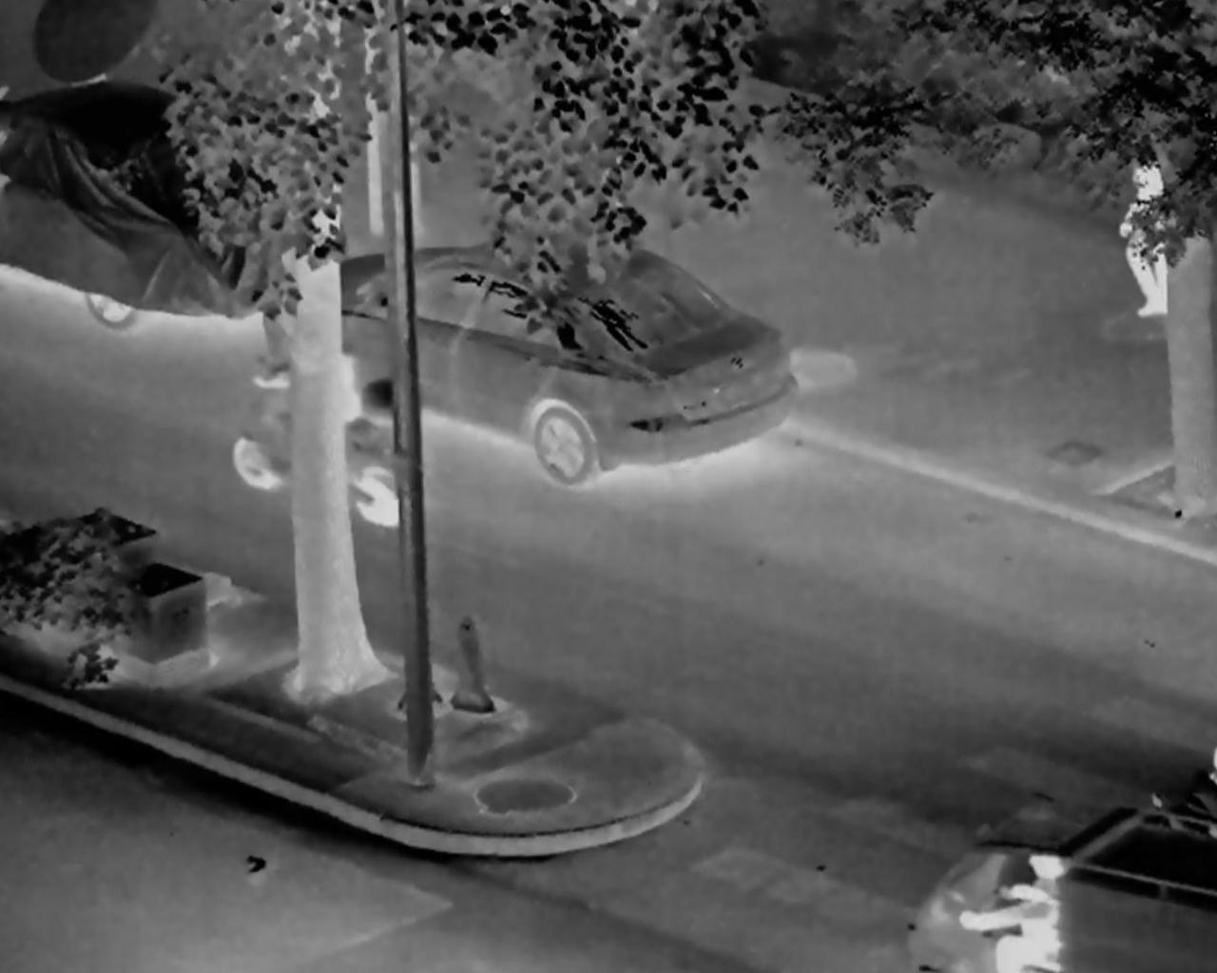person: (251, 324, 368, 462), (964, 849, 1069, 973), (1116, 156, 1189, 321)
